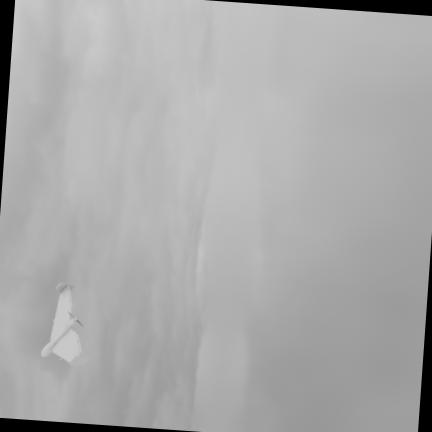Shahed: (41, 282, 88, 364)
